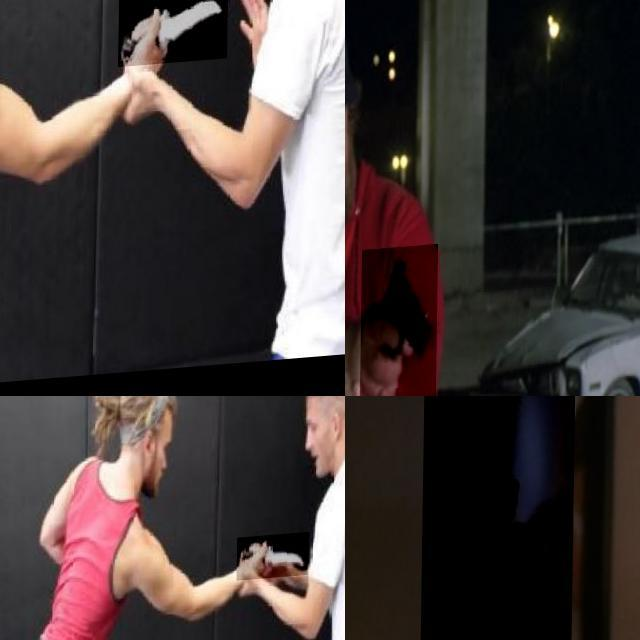-: (118, 0, 229, 73), (238, 540, 310, 588)
gun-knife-thesis - v11 Yolov5 augmented: (421, 396, 576, 640), (361, 251, 439, 396)
